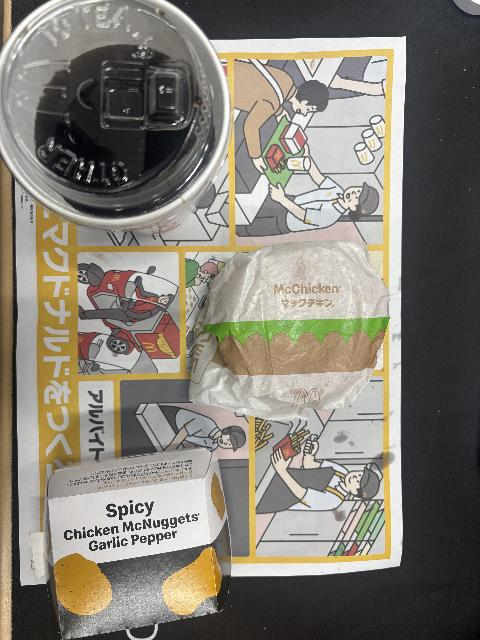burger: (189, 239, 390, 423)
drink: (0, 1, 234, 236)
nuggets: (30, 447, 233, 640)
